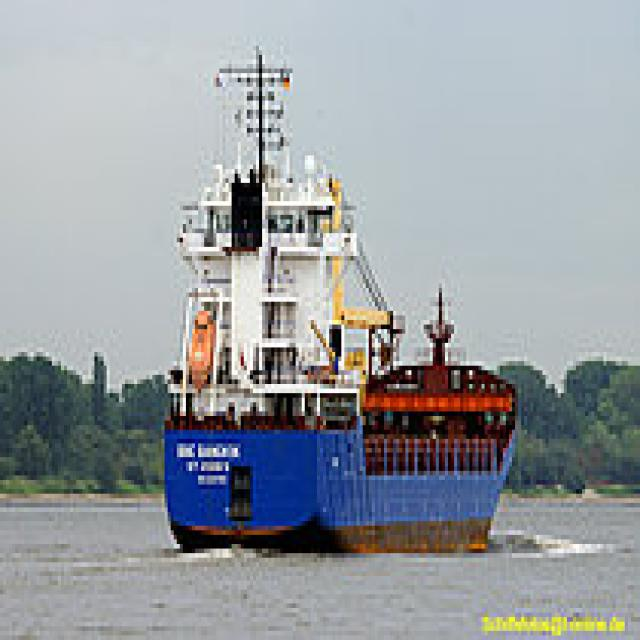Cargo: (159, 36, 518, 548)
